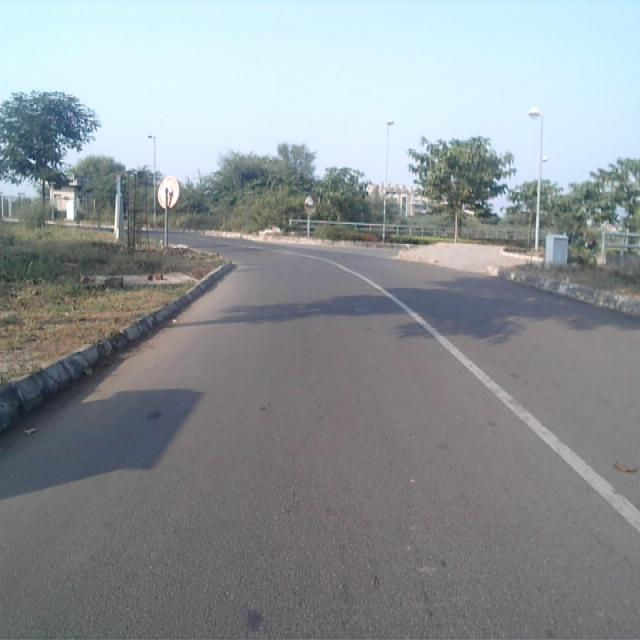lane: (0, 246, 640, 640)
